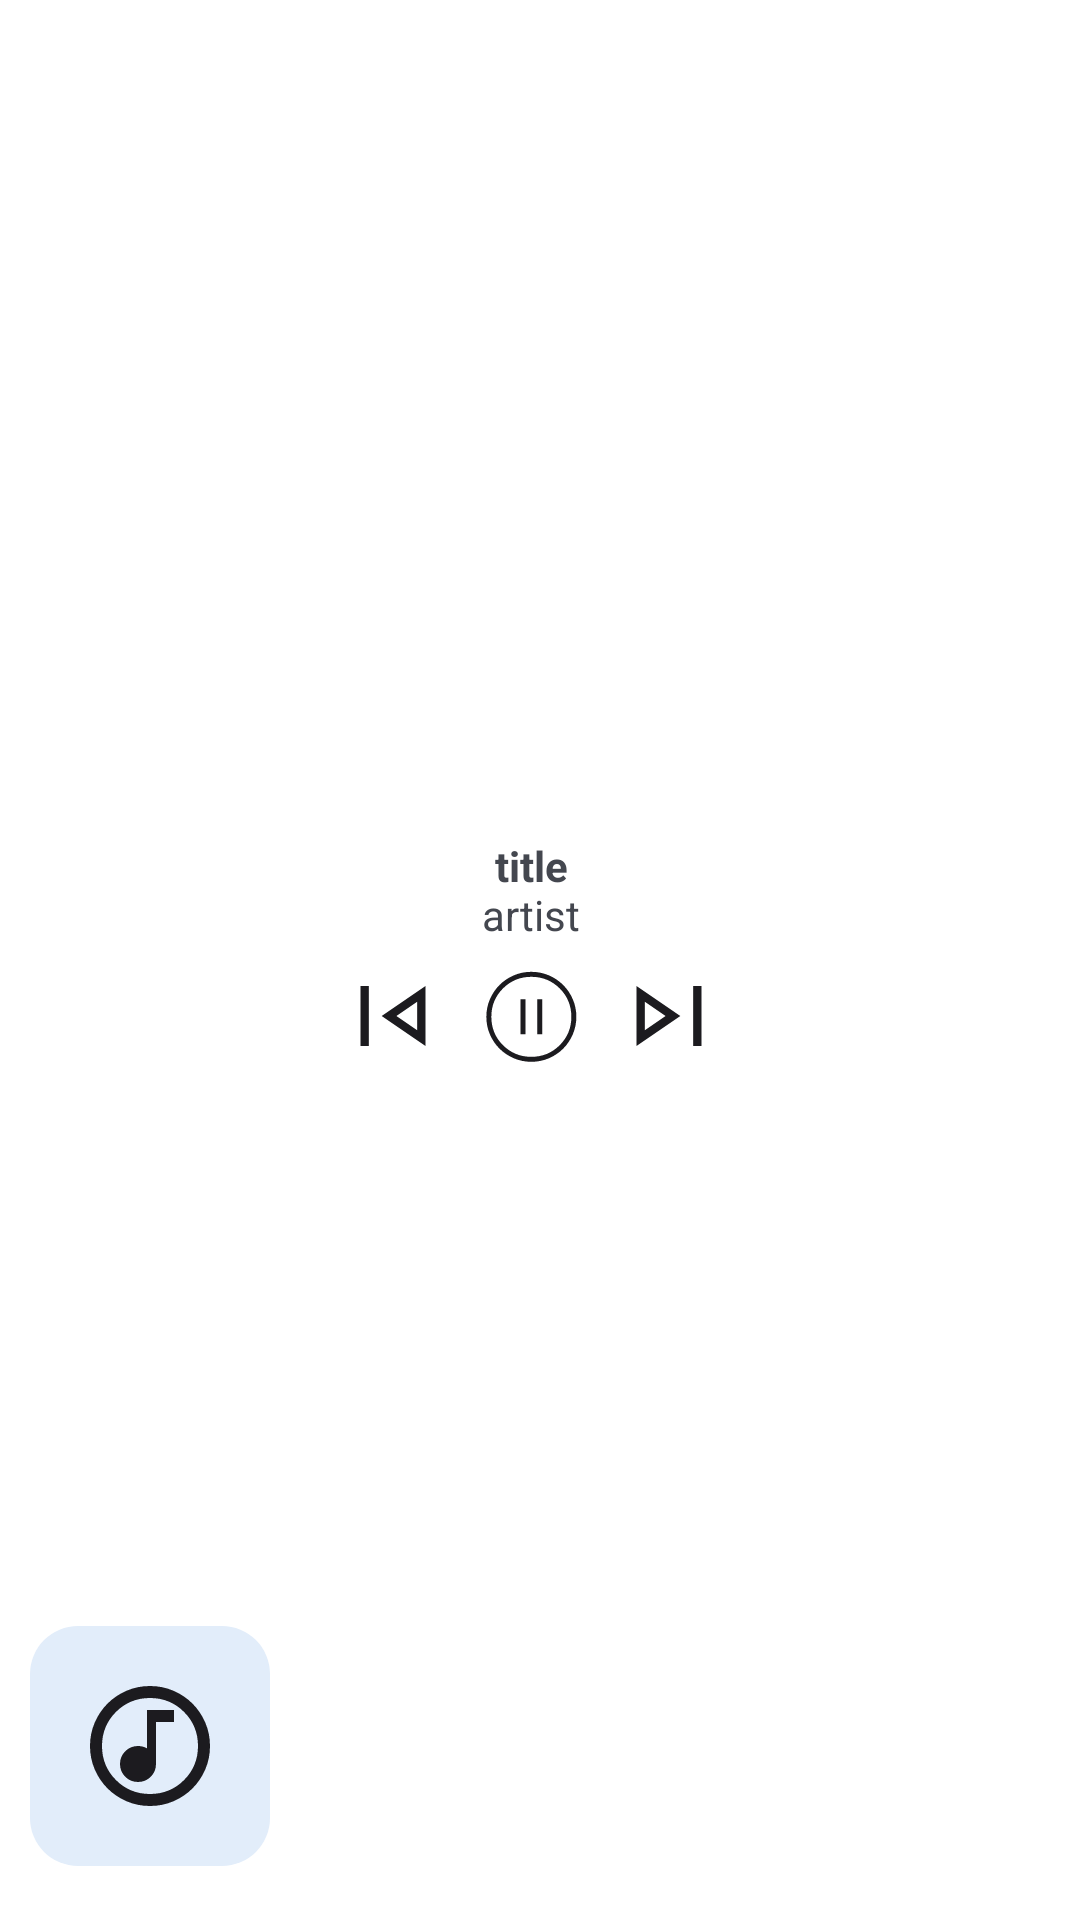

Where to tap for icons on this 1080*1920 app screen, as (x,y):
music note: (150,1746)
pause circle: (531,1016)
skip next: (669,1016)
skip previous: (393,1016)
